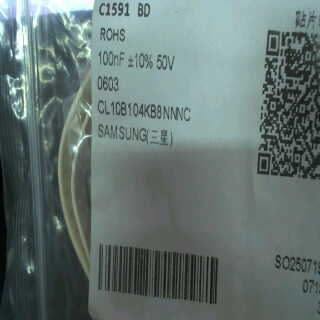100nF: (98, 47, 125, 71)
